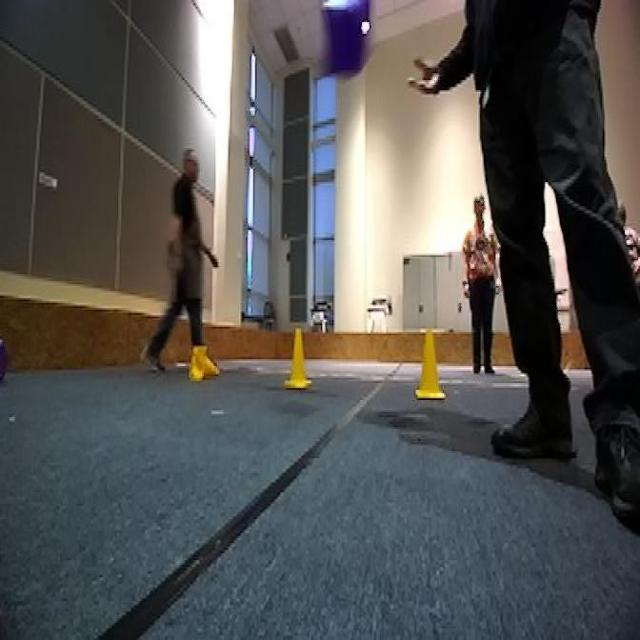frc_cone: (408, 328, 454, 398), (281, 328, 313, 386), (190, 351, 215, 381)
frc_cube: (319, 0, 373, 82), (0, 337, 10, 383)
